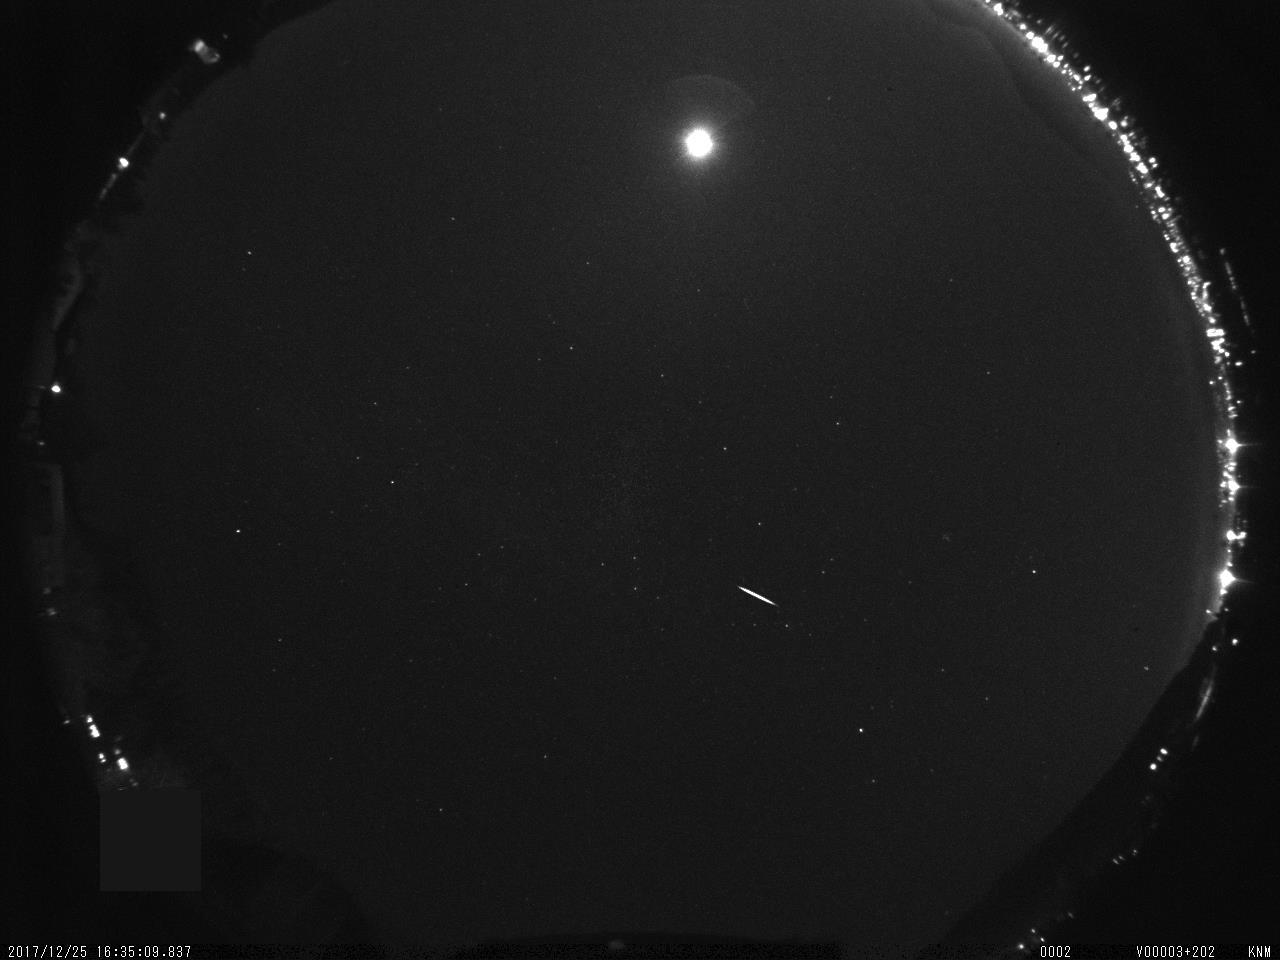meteor: (735, 583, 774, 614)
